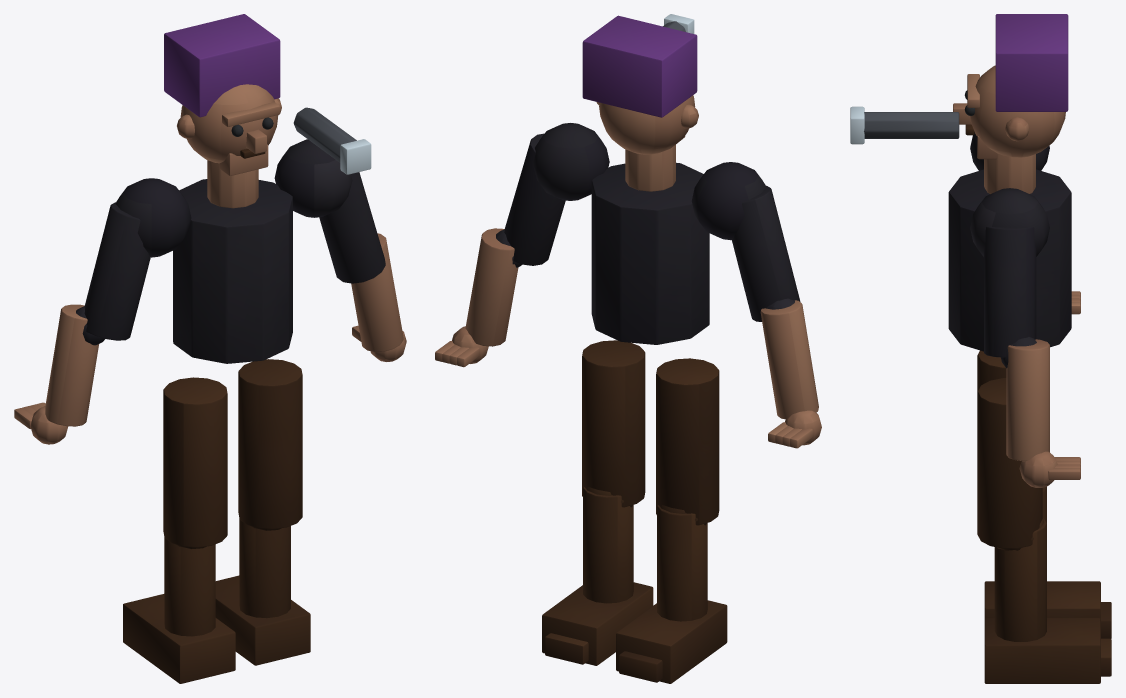
Rendered from unit_veiled_dark_spy.fbx.
3 renders of one model, left to right at view 1: azimuth 30°, elevation 25°; view 2: azimuth 150°, elevation 25°; view 3: azimuth 270°, elevation 25°, orthographic. The views are drawn at different scales.
Visible parts, largest first — view 1: unit_veiled_dark_spy; view 2: unit_veiled_dark_spy; view 3: unit_veiled_dark_spy.
Boxes of the visible parts, box(x1,y1,x2,y2) form: unit_veiled_dark_spy: box(14, 14, 406, 683); unit_veiled_dark_spy: box(435, 14, 821, 683); unit_veiled_dark_spy: box(850, 14, 1111, 683).
Size of the model in its own units: 1.18 by 1.88 by 0.72.
